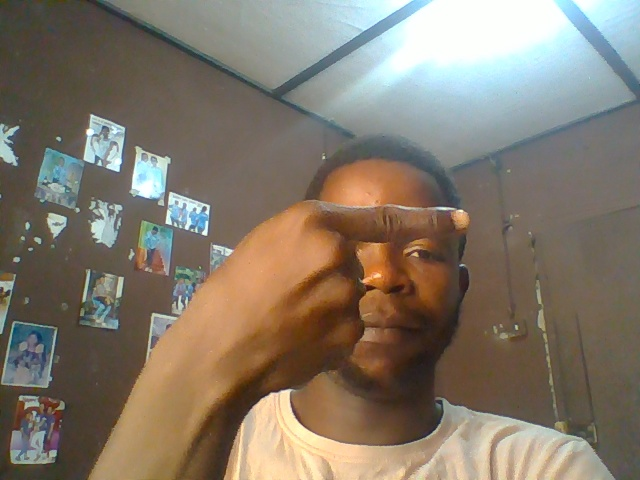Left: (211, 199, 474, 393)
